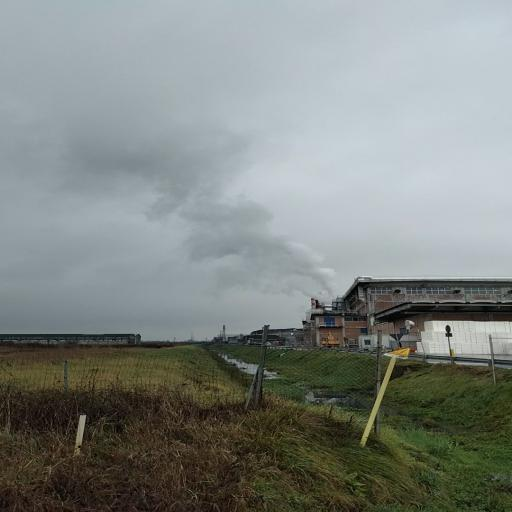leakage: (39, 114, 352, 323)
